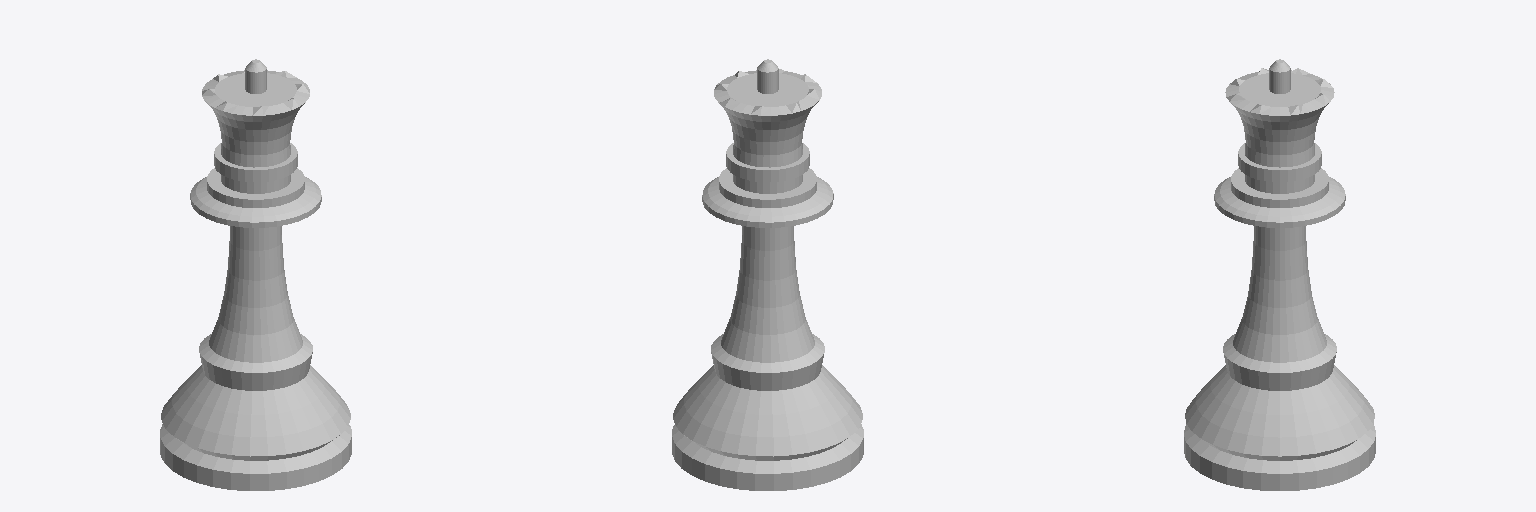
File: queen.obj
3 views of the same model, side by side, from view 1: azimuth 30°, elevation 25°; view 2: azimuth 150°, elevation 25°; view 3: azimuth 270°, elevation 25° (orthographic).
Visible parts, largest first — view 1: Cylinder; view 2: Cylinder; view 3: Cylinder.
Part boxes in pixels (x1,y1,x2,y2): Cylinder: (160,59,351,490); Cylinder: (672,59,863,490); Cylinder: (1184,59,1375,490).
Size of the model in its own units: 2.5 by 5.58 by 2.5.